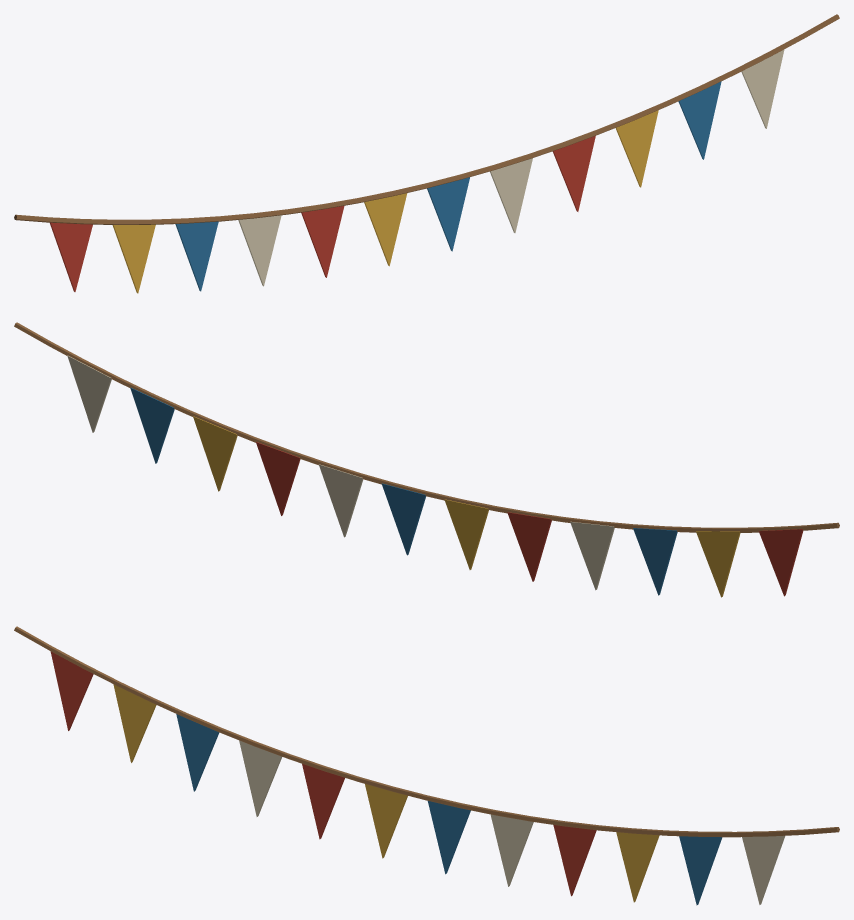
The model's file is town_bunting.glb.
3 renders of one model, top to bottom at view 1: azimuth 30°, elevation 25°; view 2: azimuth 150°, elevation 25°; view 3: azimuth 330°, elevation 25°, orthographic.
Parts seen in each view (by area): view 1: town_bunting; view 2: town_bunting; view 3: town_bunting.
Part boxes in pixels (left/top/right/bottom): town_bunting: left=14, top=14, right=839, bottom=293; town_bunting: left=14, top=322, right=839, bottom=597; town_bunting: left=14, top=626, right=839, bottom=905.
Size of the model in its own units: 6.01 by 0.9712 by 0.065.
